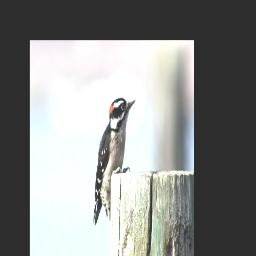Woodpecker: (92, 97, 136, 224)
